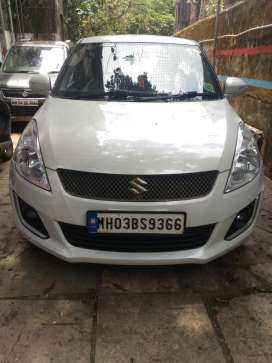nameplate: (97, 213, 187, 232)
